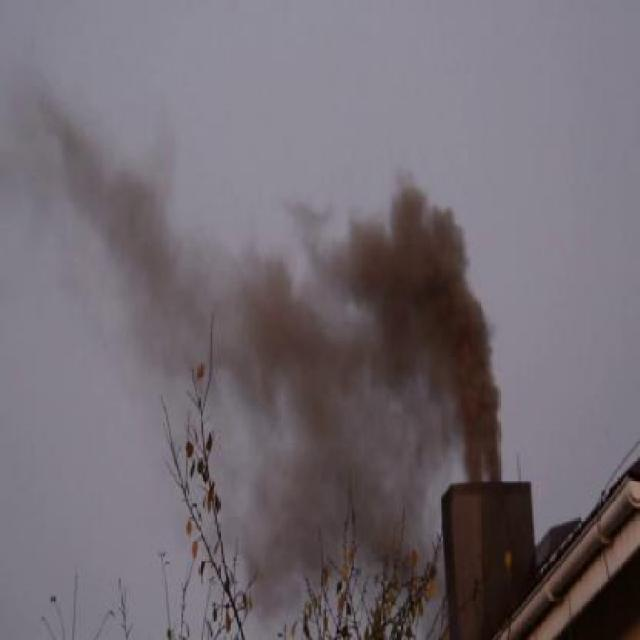smoke: (249, 154, 508, 478), (42, 90, 206, 356)
